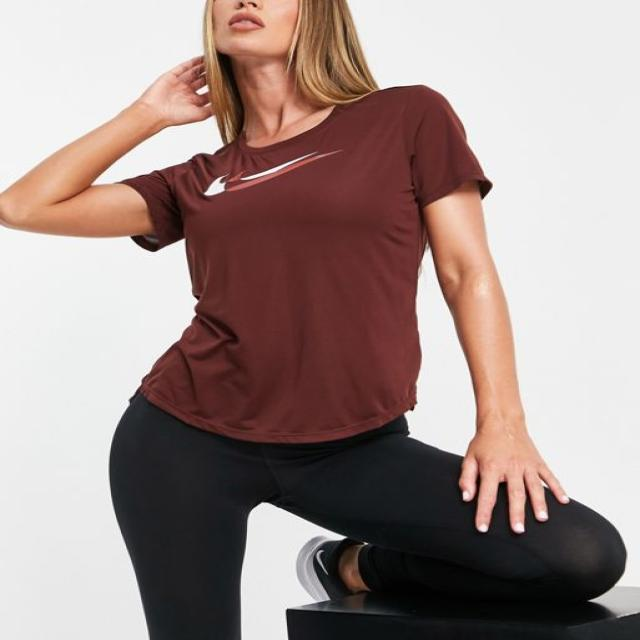tshirt: (115, 82, 493, 444)
